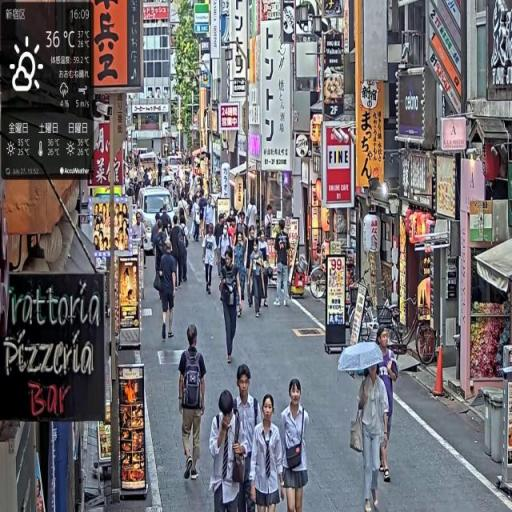person: (355, 362, 389, 512), (177, 323, 208, 482), (232, 365, 263, 512), (280, 378, 313, 512), (210, 390, 245, 512), (252, 394, 287, 512), (375, 326, 401, 483), (219, 247, 244, 368), (157, 241, 179, 341), (274, 220, 294, 309), (202, 221, 219, 296)
